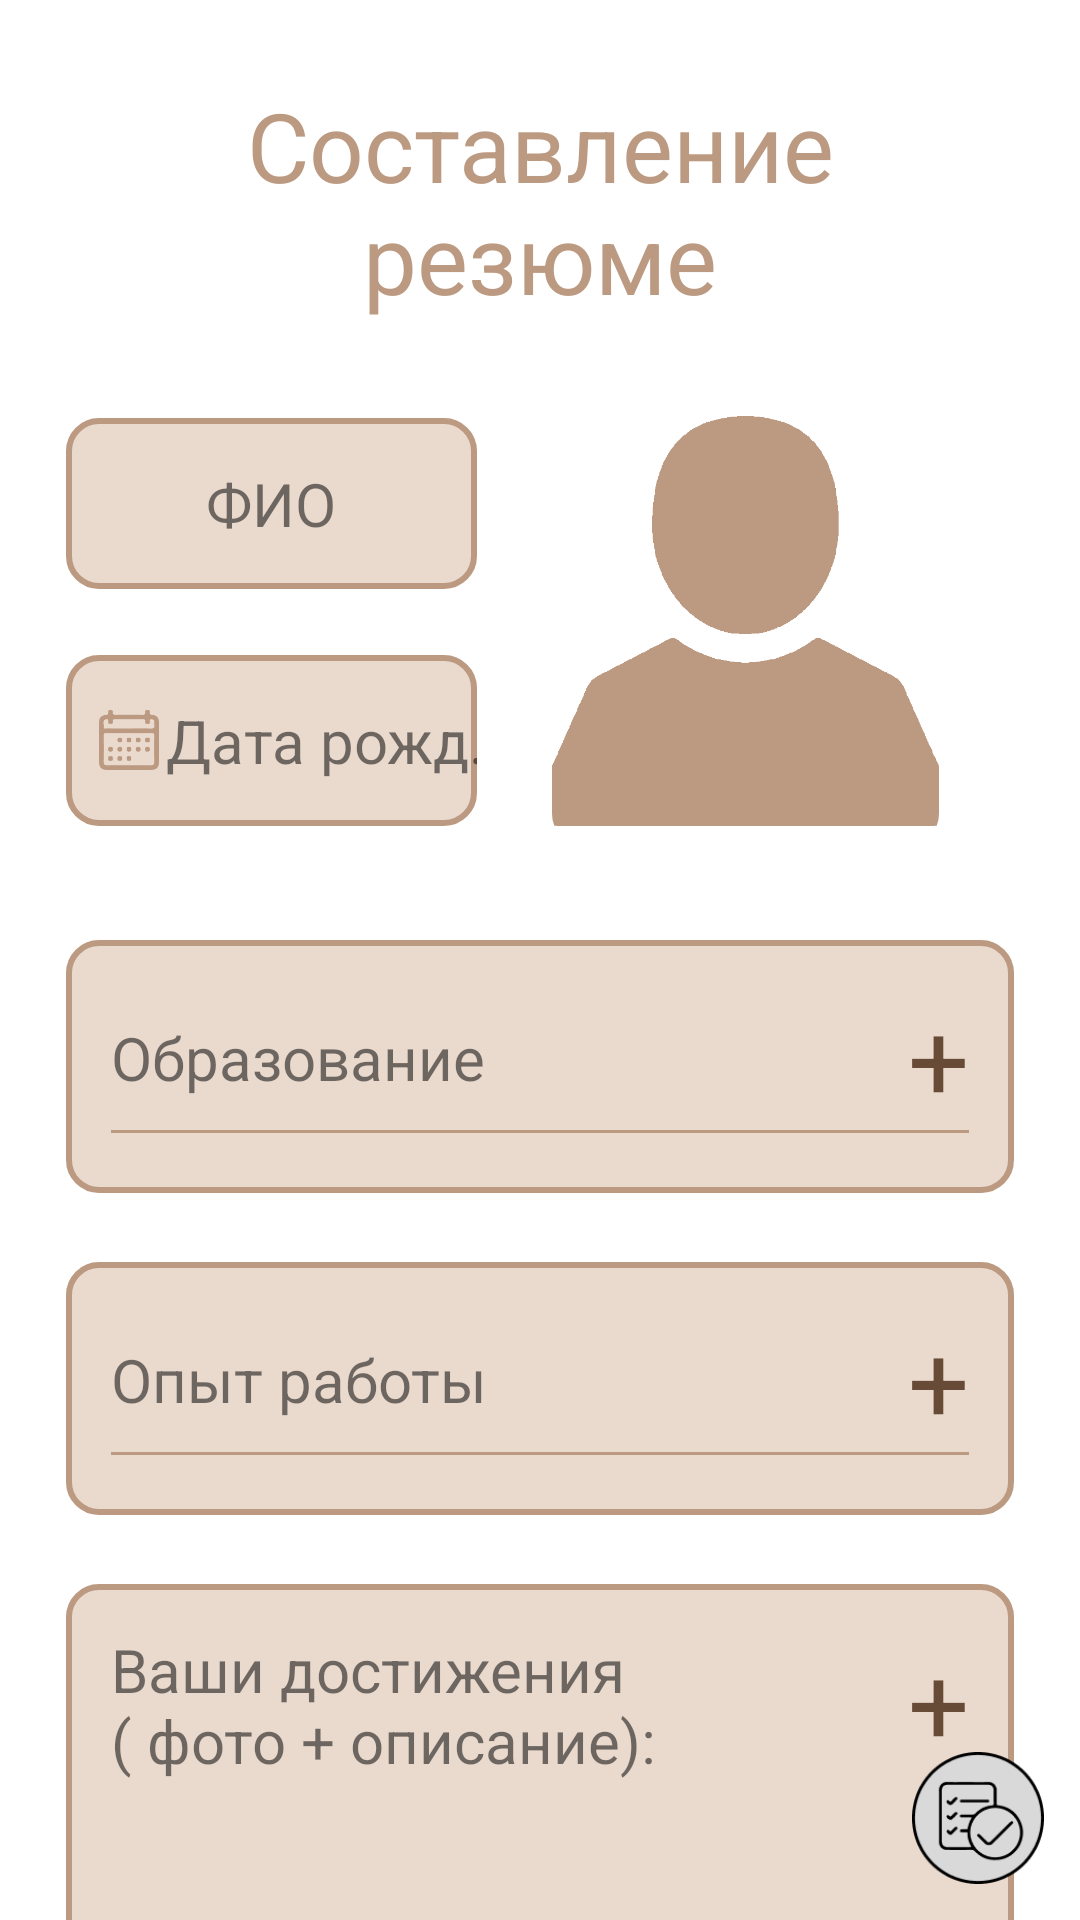

Icons on this 1080 × 1920 Android screen, each with the point to tap as (x=x, y=y):
save resume: (x=978, y=1818)
